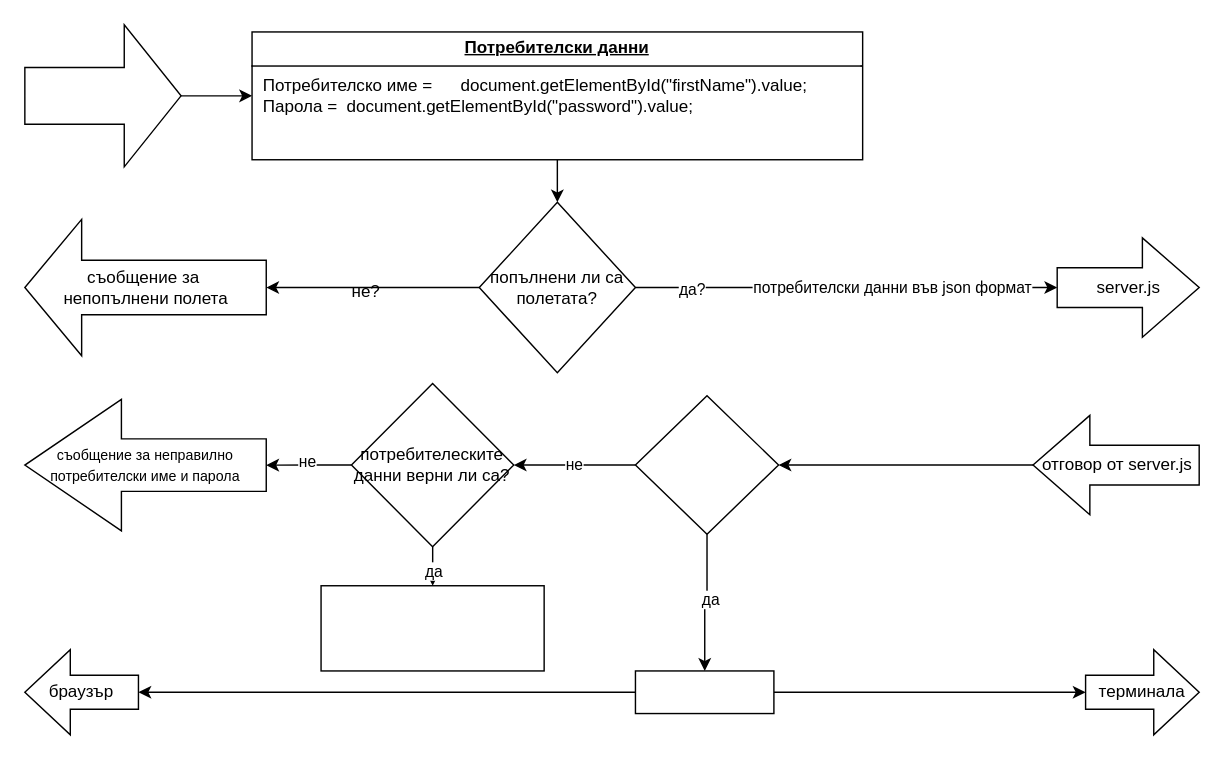
The diagram is 1224 pixels wide and 760 high, and some of its shapes have lost their labels. The shapes that lost their labels are listed below. From the top down, each one's box as (x1, y1, x2, y2) in pixels, then its label:
(23, 23, 181, 167): сайт за логин
(634, 394, 779, 534): отговора грешка ли е?
(320, 584, 544, 671): отпрати потребителя към профилната му страница
(634, 670, 774, 714): съобщение за грешка
